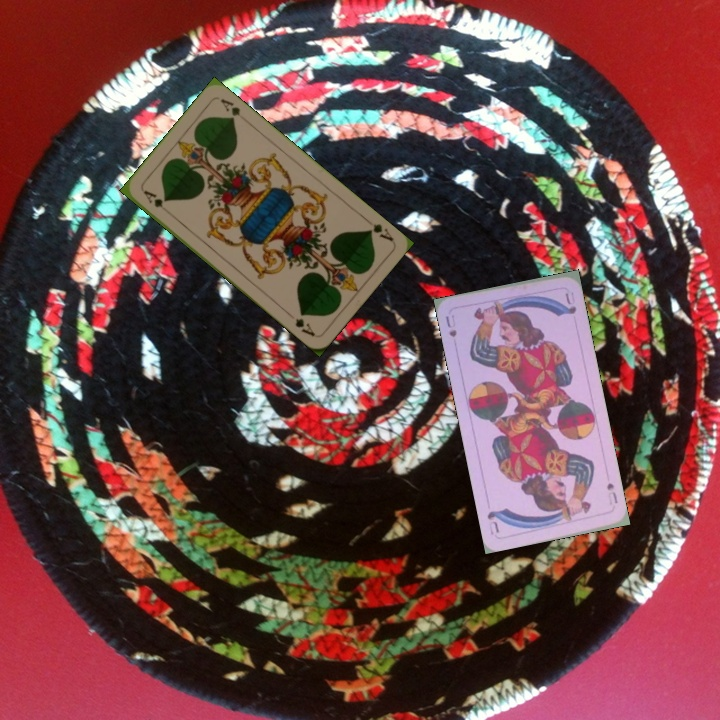GA: (139, 186, 173, 217), (361, 214, 396, 244)
SU: (441, 311, 459, 340), (602, 478, 620, 506)
